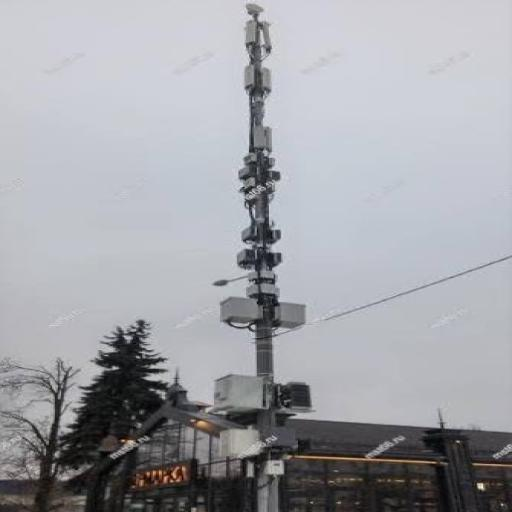odn_pole: (211, 3, 312, 511)
